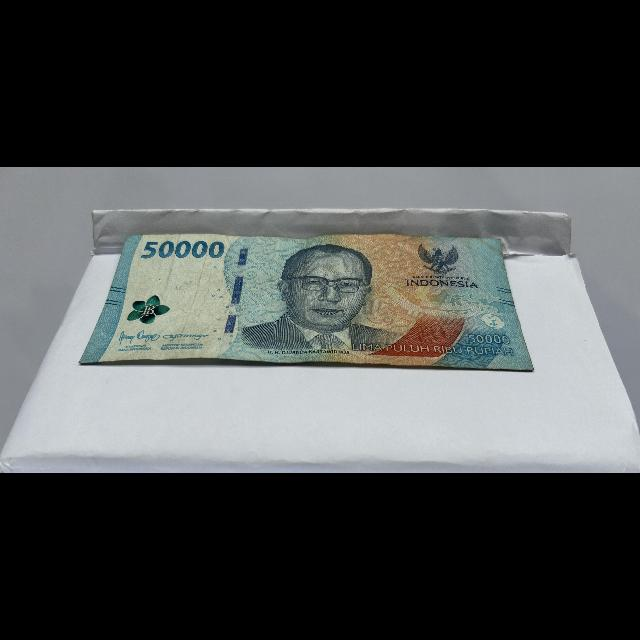Asli-50k: (75, 230, 537, 373)
Tinta-Asli-50k: (123, 294, 175, 326)
